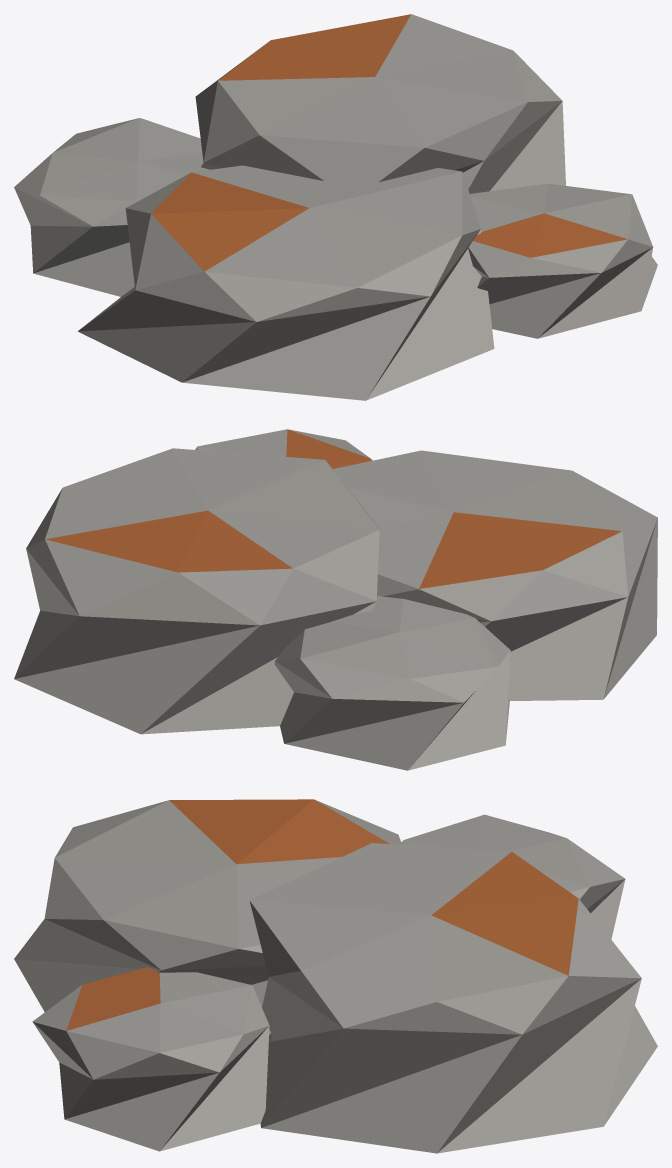
The model's file is item_rm_steel_c.obj.
The picture shows the model from 3 angles, top to bottom: view 1: azimuth 30°, elevation 25°; view 2: azimuth 150°, elevation 25°; view 3: azimuth 270°, elevation 25°; orthographic projection. The views are drawn at different scales.
Size of the model in its own units: 0.8704 by 0.2242 by 0.8691.
